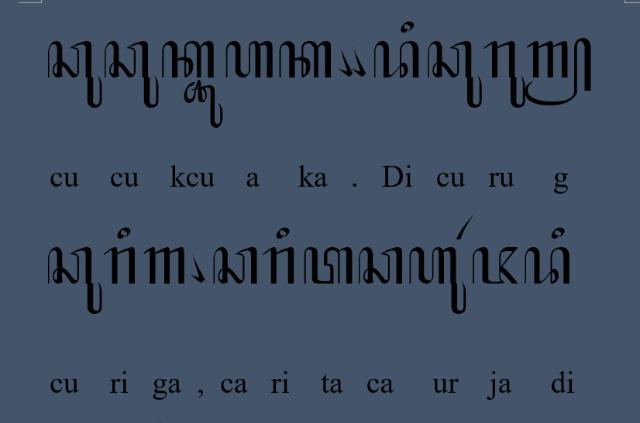-g: (524, 36, 594, 108)
_cu: (182, 79, 224, 129)
_r1: (454, 214, 476, 240)
c: (212, 244, 260, 286), (358, 246, 404, 286)
cu: (46, 39, 104, 109), (47, 245, 103, 315), (104, 40, 160, 108), (428, 39, 482, 109)
d: (372, 39, 420, 79), (524, 246, 572, 284)
g: (143, 246, 187, 286)
h: (223, 40, 274, 78)
hu: (407, 244, 467, 315)
i: (116, 225, 132, 241), (550, 225, 566, 241), (400, 19, 414, 35), (276, 226, 290, 240)
j: (471, 246, 519, 284)
k: (160, 40, 218, 80), (278, 39, 334, 79)
kom: (337, 46, 353, 78), (190, 252, 204, 284), (352, 47, 366, 77)
r: (103, 244, 137, 286), (262, 246, 296, 286)
ru: (482, 39, 526, 109)
t: (302, 244, 354, 286)
